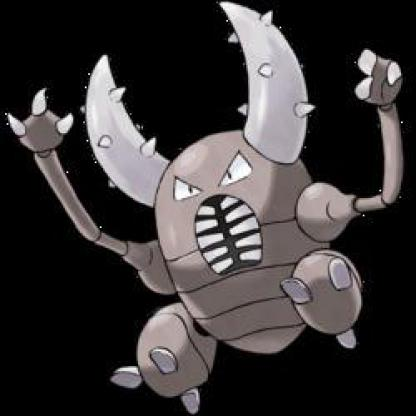Pinsir: (10, 1, 416, 416)
